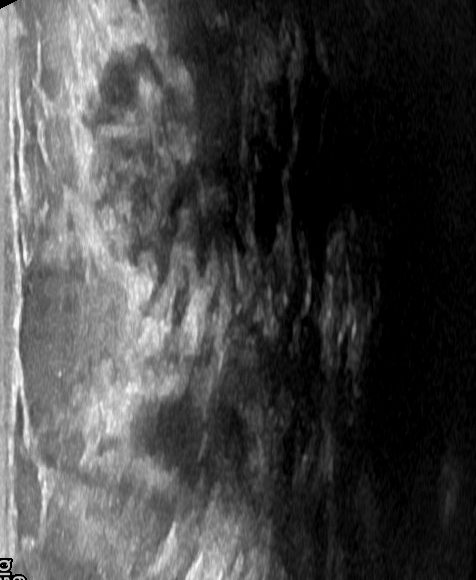Normal: (15, 4, 455, 574)
